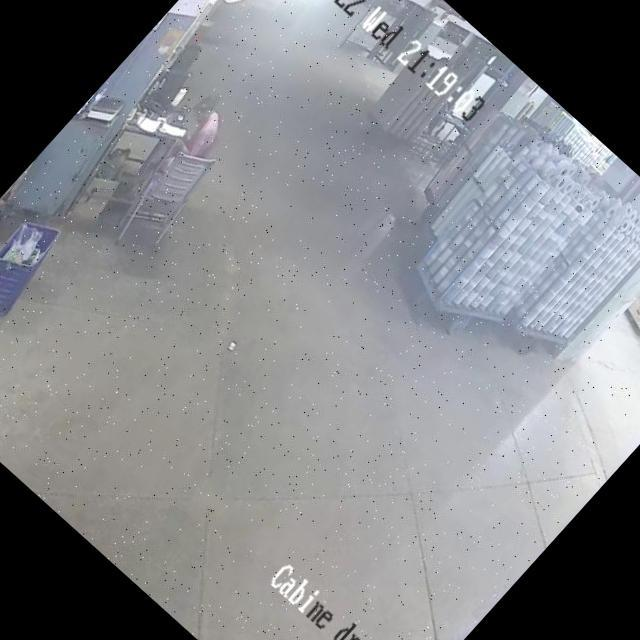person: (164, 85, 244, 166)
